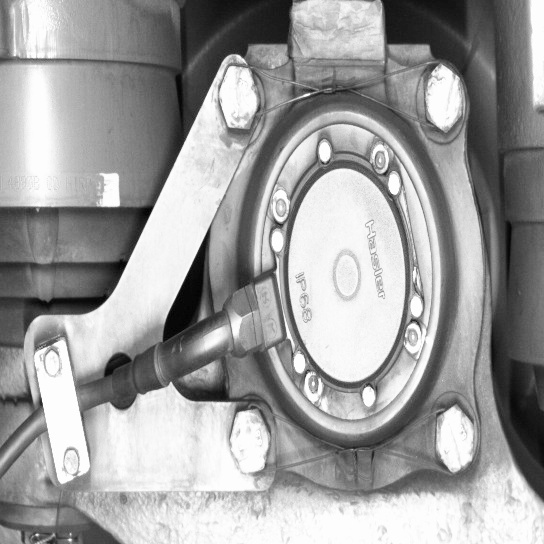IronWire: (221, 392, 483, 485), (209, 54, 470, 140)
Screw: (220, 398, 279, 483), (208, 53, 265, 140), (413, 51, 468, 141), (429, 394, 480, 482)
